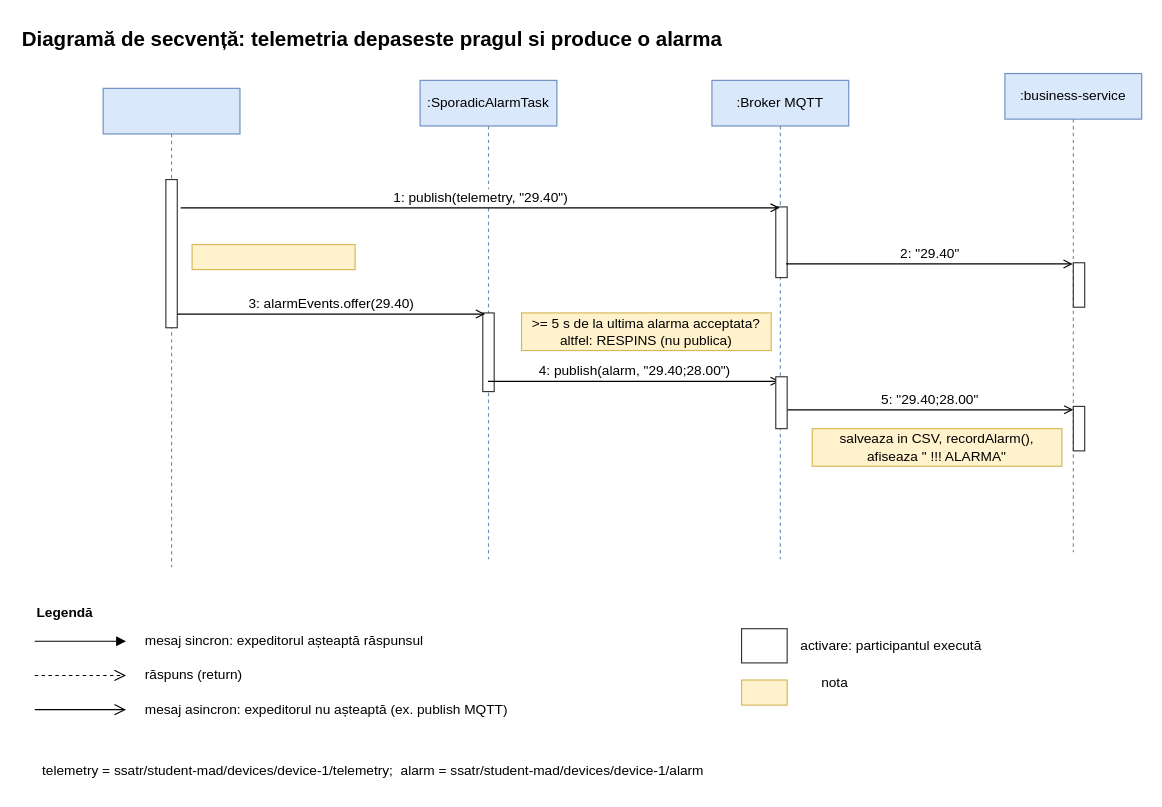
The diagram is 1162 pixels wide and 807 high, and some of its shapes have lost their labels. The centre of each missing label's shape, as x and y in pixels:
29.40 > prag 28.00: the point at 273,256
:PeriodicTelemetryTask: the point at 171,327
